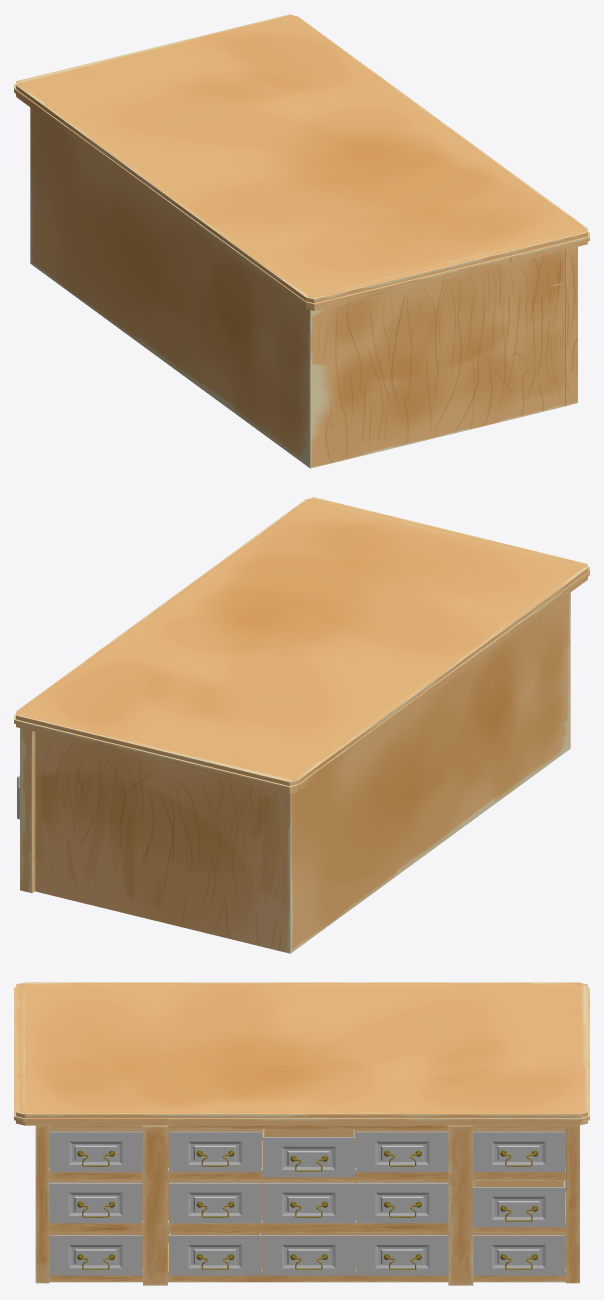
File: Table_mages.fbx
3 renders of one model, top to bottom at view 1: azimuth 30°, elevation 25°; view 2: azimuth 150°, elevation 25°; view 3: azimuth 270°, elevation 25°, orthographic. The views are drawn at different scales.
Visible parts, largest first — view 1: MainPart.001; view 2: MainPart.001; view 3: MainPart.001, Cube.009, Cube.002, Cube.005, Cube.017, Cube.006, Cube.008, Cube.012, Cube.014, Cube.011, Cube.015, Cube.010 (+4 smaller).
Boxes of the visible parts, x1,y1,x2,y2 form: MainPart.001: (14,14,589,468); MainPart.001: (14,497,589,953); MainPart.001: (14,982,589,1285); Cube.009: (262,1182,355,1223); Cube.002: (49,1182,142,1223); Cube.005: (50,1131,142,1172); Cube.017: (473,1131,565,1172); Cube.006: (169,1182,261,1223); Cube.008: (169,1131,261,1172); Cube.012: (356,1182,448,1223); Cube.014: (356,1131,448,1172); Cube.011: (262,1129,355,1177); Cube.015: (472,1181,565,1227); Cube.010: (262,1235,355,1275).
Size of the model in its own units: 2.59 by 1.47 by 4.48.
